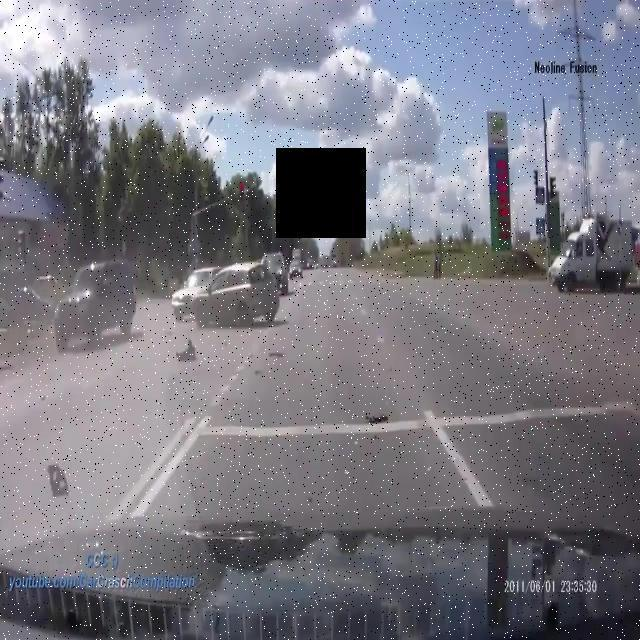accident: (171, 258, 284, 329)
